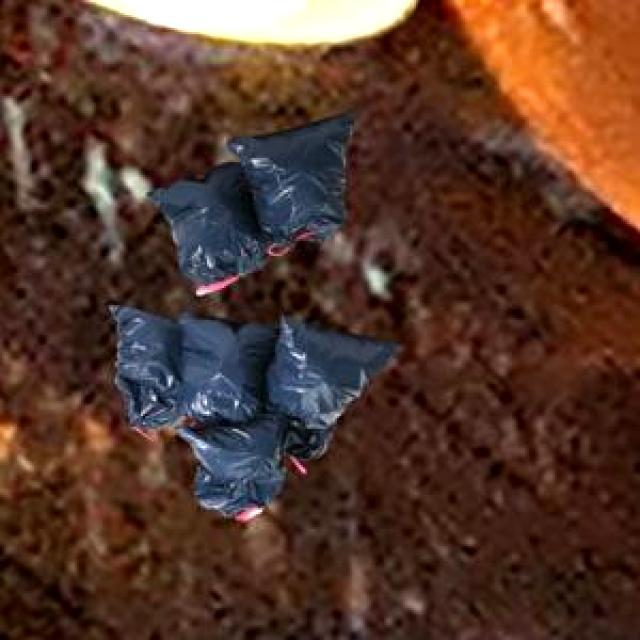Garbage_Bag: (106, 302, 400, 516), (146, 108, 353, 292)
